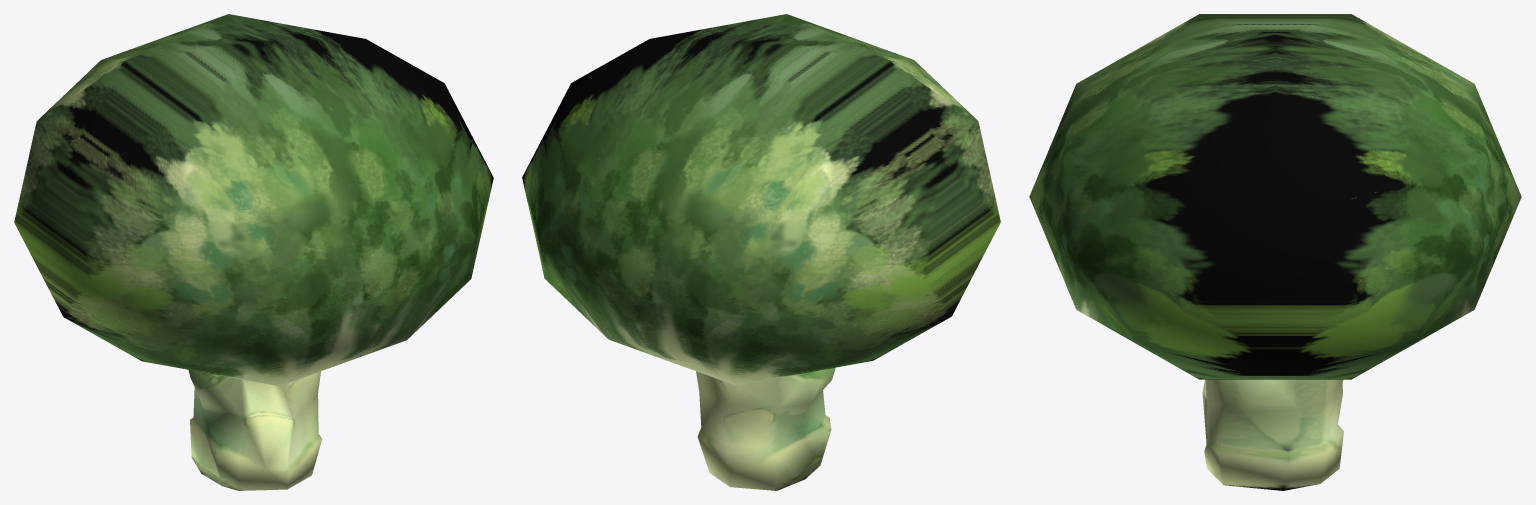
File: Broccoli.fbx
3 renders of one model, left to right at view 1: azimuth 30°, elevation 25°; view 2: azimuth 150°, elevation 25°; view 3: azimuth 270°, elevation 25°, orthographic. The views are drawn at different scales.
Parts seen in each view (by area): view 1: Broccoli; view 2: Broccoli; view 3: Broccoli.
Part boxes in pixels (bbox=[...]): Broccoli: bbox=[14, 14, 493, 490]; Broccoli: bbox=[522, 14, 1000, 490]; Broccoli: bbox=[1029, 14, 1521, 490].
Size of the model in its own units: 701 by 718 by 698.
1 material, 1 textured.
